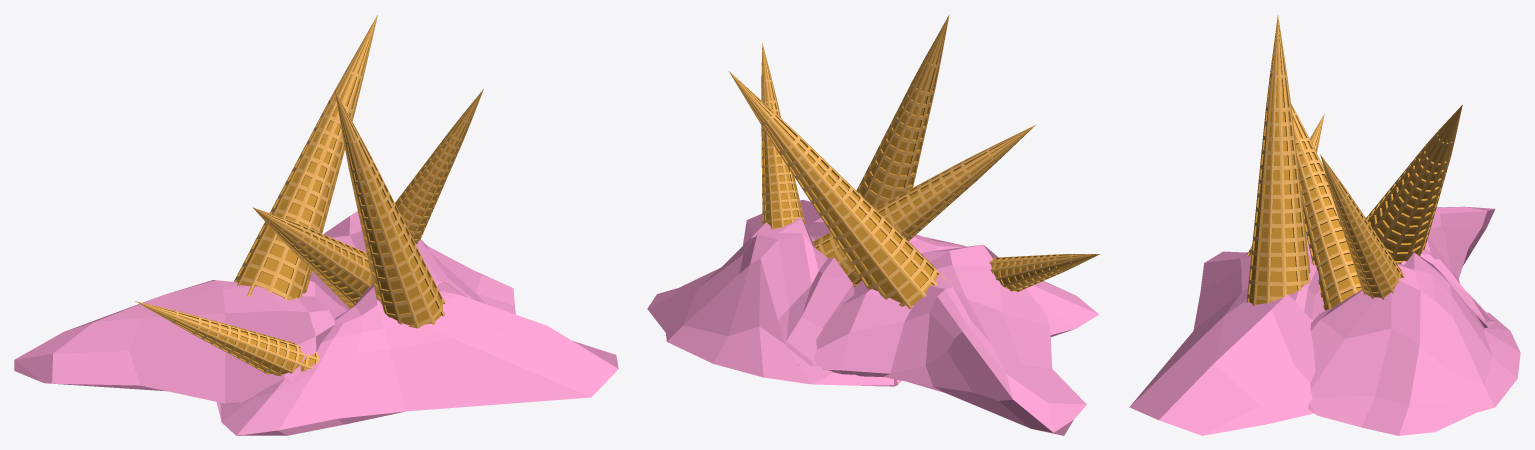
Rendered from Pintxos.fbx.
3 views of the same model, side by side, from view 1: azimuth 30°, elevation 25°; view 2: azimuth 150°, elevation 25°; view 3: azimuth 270°, elevation 25° (orthographic). The views are drawn at different scales.
Visible parts, largest first — view 1: Conos; view 2: Conos; view 3: Conos.
Boxes of the visible parts, left/top/right/bottom form: Conos: left=14, top=15, right=618, bottom=435; Conos: left=647, top=14, right=1099, bottom=435; Conos: left=1129, top=15, right=1520, bottom=435.
Size of the model in its own units: 1343 by 851 by 970.
